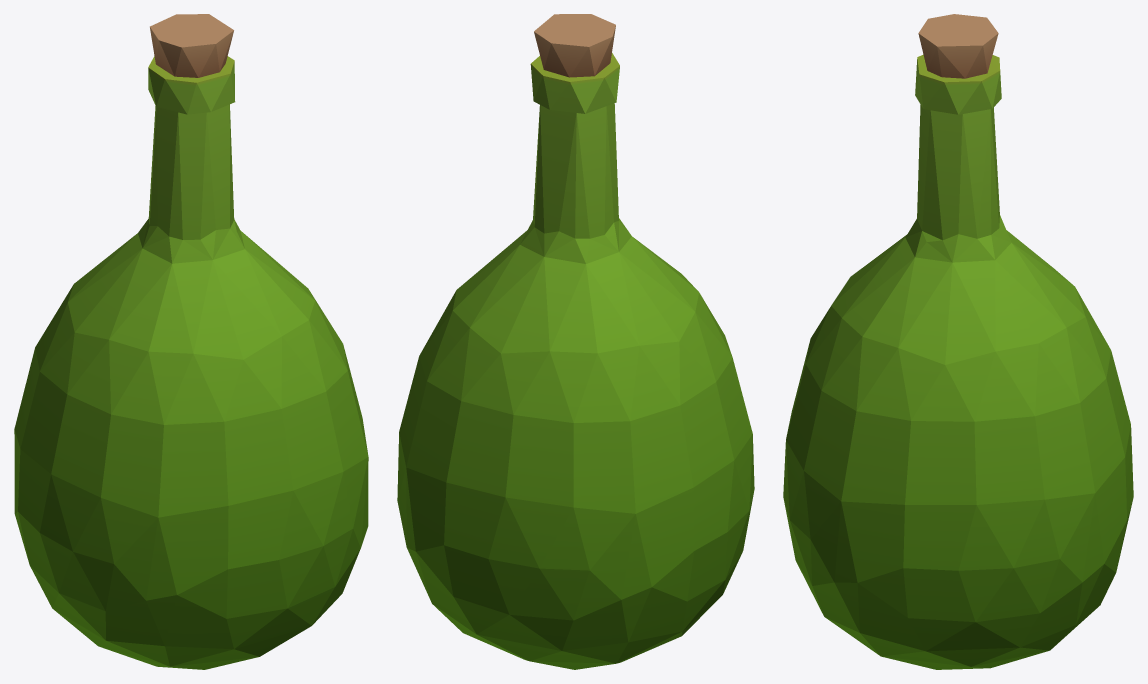
The model's file is SM_Bottle_03.fbx.
3 views of the same model, side by side, from view 1: azimuth 30°, elevation 25°; view 2: azimuth 150°, elevation 25°; view 3: azimuth 270°, elevation 25° (orthographic).
Parts seen in each view (by area): view 1: SM_Bottle_03; view 2: SM_Bottle_03; view 3: SM_Bottle_03.
Part boxes in pixels (x1,y1,x2,y2): SM_Bottle_03: [14, 14, 368, 669]; SM_Bottle_03: [397, 14, 754, 669]; SM_Bottle_03: [783, 14, 1133, 669].
Bounding box in the file's own units: 14.41 × 27.81 × 14.41.
